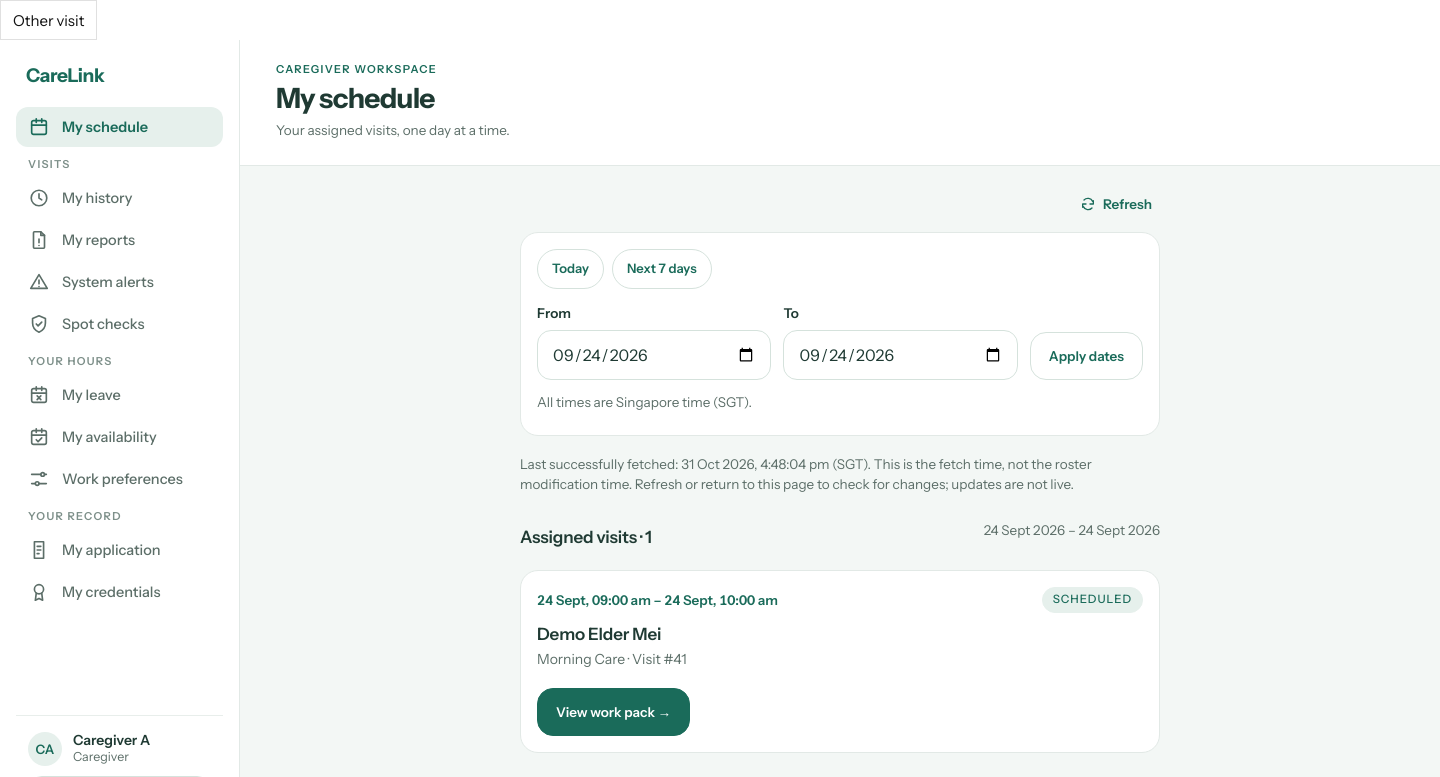
Test case: caregiver read workflow › shows assigned cards and alerts; work pack keeps the return date range
This screenshot has width=1440, height=777.
Expected: the heading "Demo Elder Mei" is shown, [537,624,661,644]
Click the link "View work pack →".
click(614, 712)  # box [537,688,690,736]
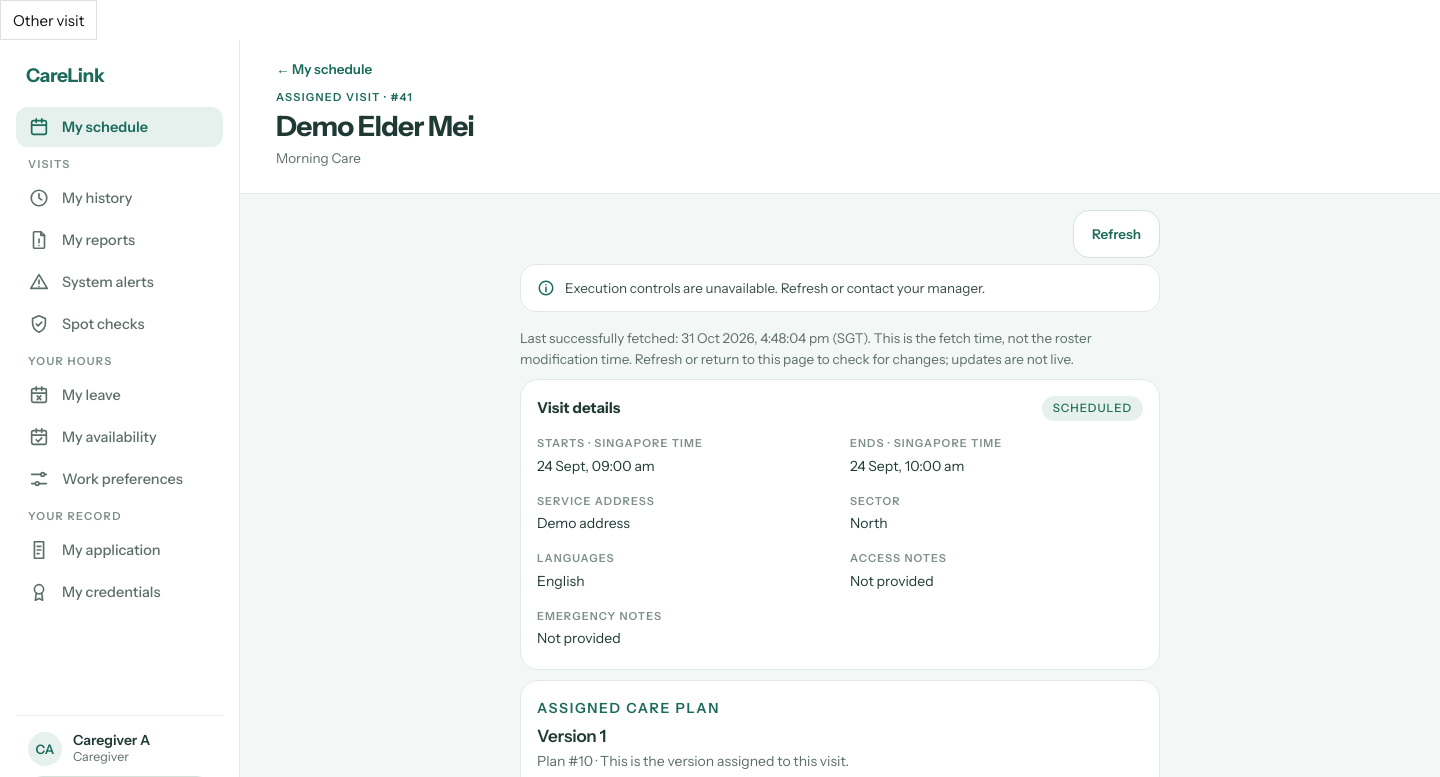
Result: the heading "Version 1" is shown at [537,726,606,746]
Result: the text "Execution controls are unavailable" is shown at [565,280,985,296]
